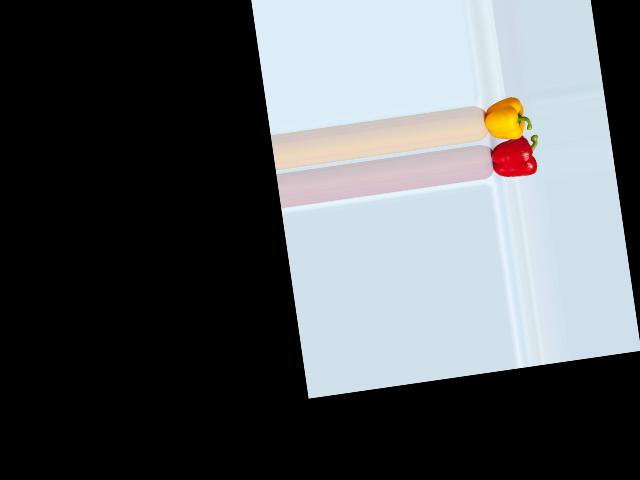bell_pepper: (484, 133, 541, 184)
